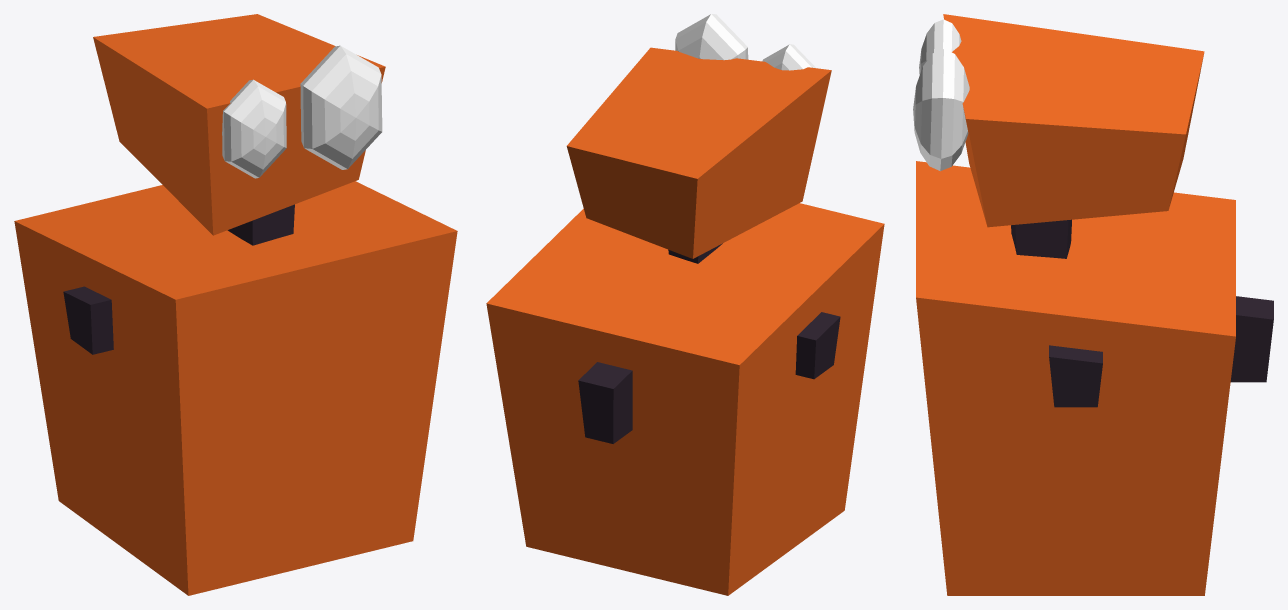
Rendered from Robot01.fbx.
The picture shows the model from 3 angles, left to right: view 1: azimuth 30°, elevation 25°; view 2: azimuth 150°, elevation 25°; view 3: azimuth 270°, elevation 25°; orthographic projection. The views are drawn at different scales.
Parts seen in each view (by area): view 1: Cube, Cube.001, Sphere, Sphere.001, Cube.004, Cube.002; view 2: Cube, Cube.001, Cube.003, Sphere, Cube.004, Sphere.001; view 3: Cube, Cube.001, Sphere, Cube.003, Cube.005, Cube.002, Sphere.001.
Boxes of the visible parts, box(x1,y1,x2,y2) form: Cube: box(14, 181, 457, 595); Cube.001: box(93, 14, 385, 235); Sphere: box(300, 45, 382, 169); Sphere.001: box(222, 79, 286, 178); Cube.004: box(63, 286, 113, 354); Cube.002: box(227, 204, 294, 245); Cube: box(486, 203, 884, 595); Cube.001: box(566, 47, 831, 258); Cube.003: box(578, 362, 632, 443); Sphere: box(675, 14, 748, 60); Cube.004: box(795, 312, 840, 379); Sphere.001: box(762, 44, 815, 70); Cube: box(916, 161, 1235, 595); Cube.001: box(943, 14, 1204, 227); Sphere: box(913, 49, 969, 171); Cube.003: box(1230, 296, 1273, 382); Cube.005: box(1049, 345, 1102, 407); Cube.002: box(1011, 219, 1071, 258); Sphere.001: box(919, 19, 961, 74).
Bounding box in the file's own units: 114 × 175 × 112.
